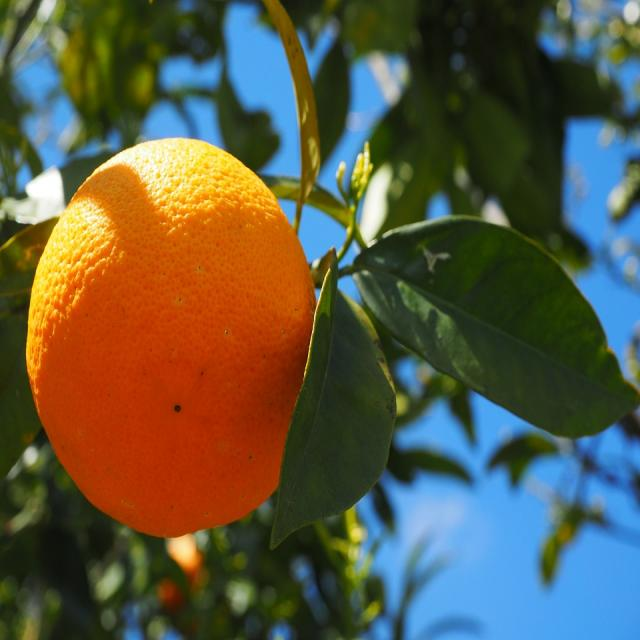orange: (24, 136, 322, 540)
